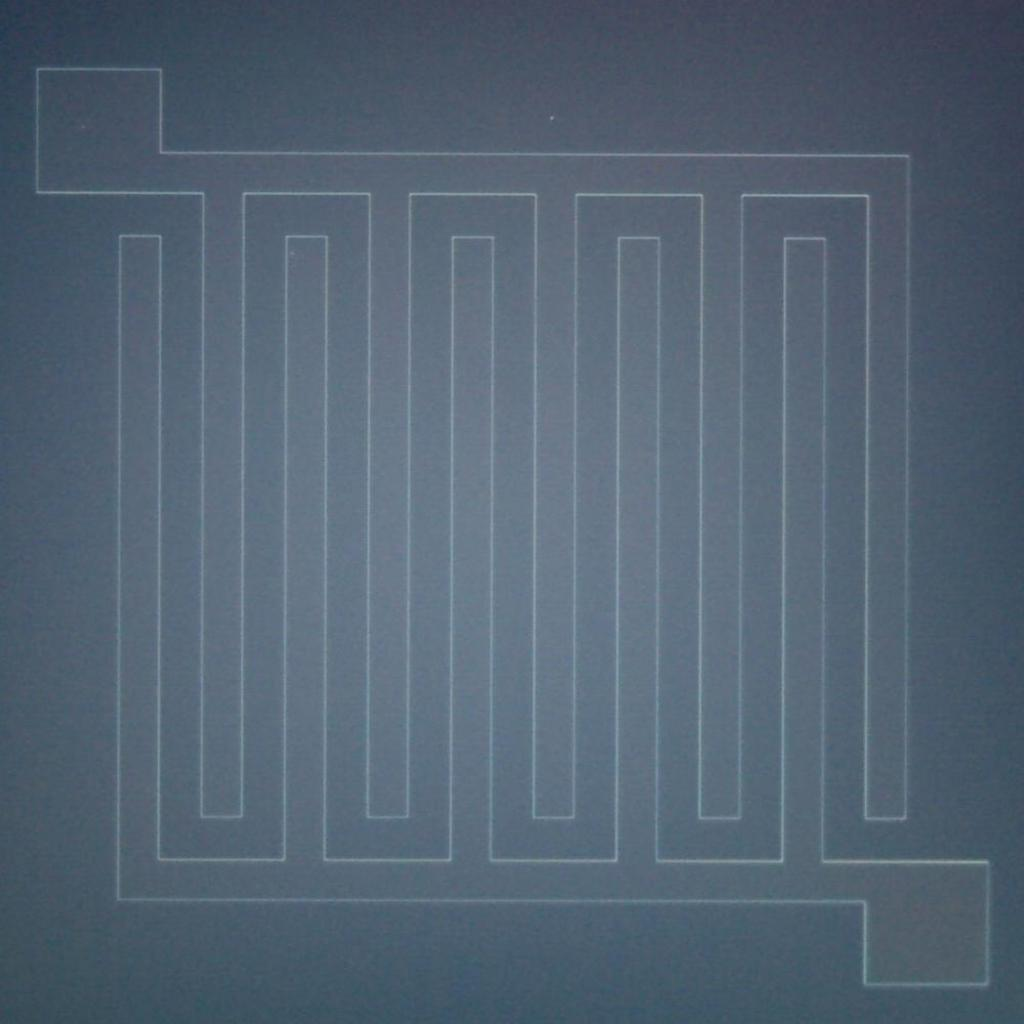dot: (290, 251, 296, 256), (550, 116, 554, 120)
